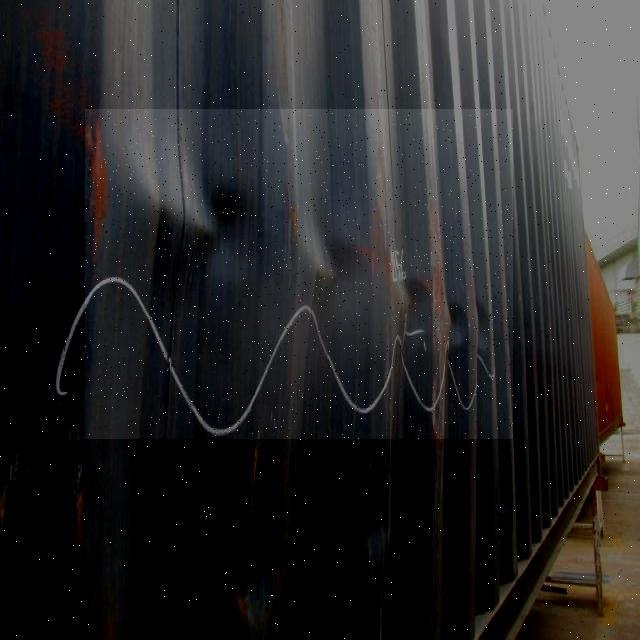Dent: (85, 109, 513, 439)
